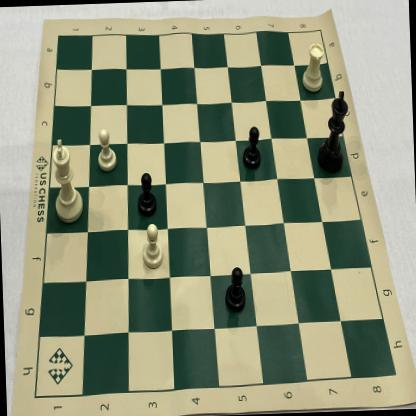king: (48, 135, 86, 228), (314, 86, 352, 174)
pawn: (222, 259, 250, 315), (138, 221, 167, 273), (134, 166, 160, 220), (93, 124, 119, 174), (240, 121, 263, 172)
rook: (300, 39, 328, 96)
